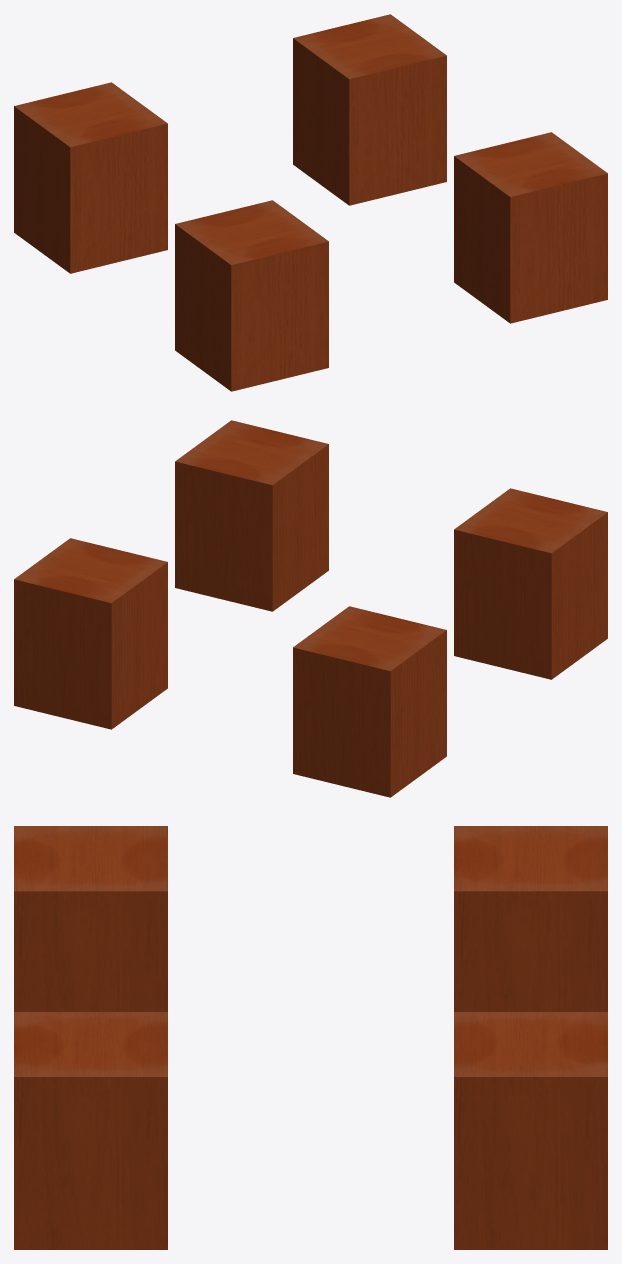
File: Silla1Base.obj
3 views of the same model, one above another, from view 1: azimuth 30°, elevation 25°; view 2: azimuth 150°, elevation 25°; view 3: azimuth 270°, elevation 25° (orthographic). The views are drawn at different scales.
Visible parts, largest first — view 1: Silla_pCube6, Silla_pCube10, Silla_pCube8, Silla_pCube9; view 2: Silla_pCube10, Silla_pCube6, Silla_pCube8, Silla_pCube9; view 3: Silla_pCube10, Silla_pCube9, Silla_pCube6, Silla_pCube8.
Boxes of the visible parts, box(x1,y1,x2,y2) form: Silla_pCube6: box(14, 82, 167, 273); Silla_pCube10: box(293, 14, 446, 205); Silla_pCube8: box(175, 200, 328, 391); Silla_pCube9: box(454, 132, 607, 323); Silla_pCube10: box(14, 538, 167, 729); Silla_pCube6: box(293, 606, 446, 797); Silla_pCube8: box(454, 488, 607, 679); Silla_pCube9: box(175, 420, 328, 611); Silla_pCube10: box(454, 1012, 607, 1249); Silla_pCube9: box(14, 1012, 167, 1249); Silla_pCube6: box(454, 826, 607, 1011); Silla_pCube8: box(14, 826, 167, 1011).
Size of the model in its own units: 0.823 by 0.2641 by 0.823.
Materials: 1 (1 with a texture image).
